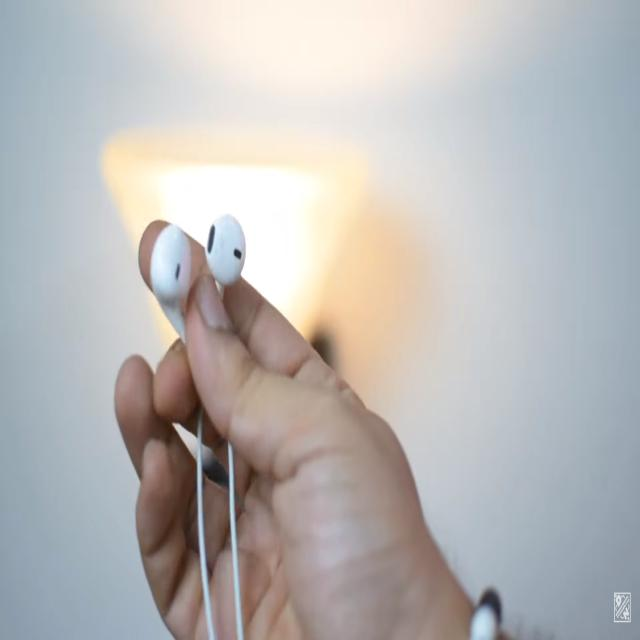Earphone: (148, 211, 248, 640)
